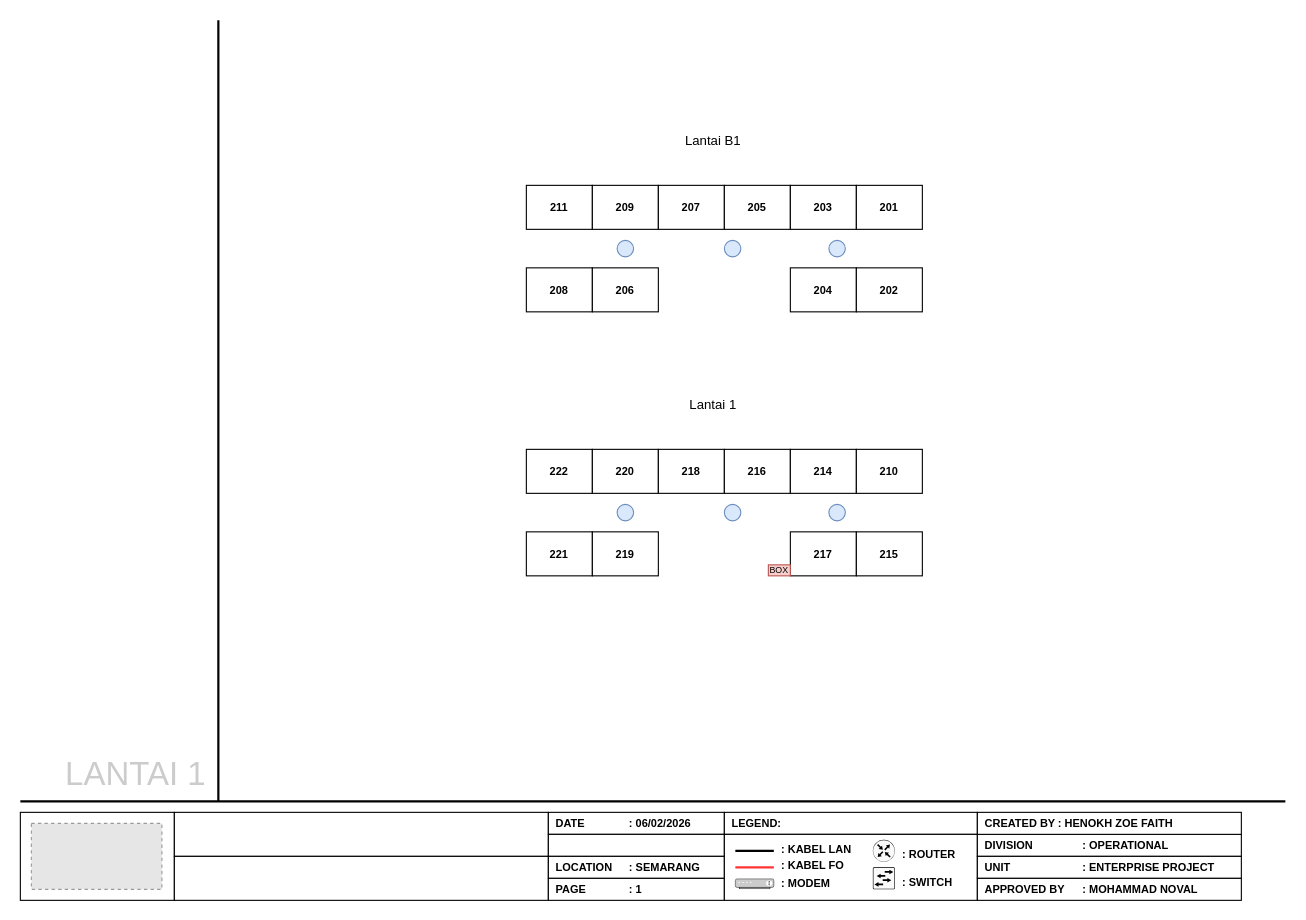
This 1306x920 diagram has some shape labels left out. Grey dashed boxes stand in for pictures. The centre of each missing label's shape, as x and y in pixels:
FILE : TOPOLOGY: the point at 635,844
PROJECT:: the point at 360,833
SUBJECT: LAN & WIFI: the point at 360,877
